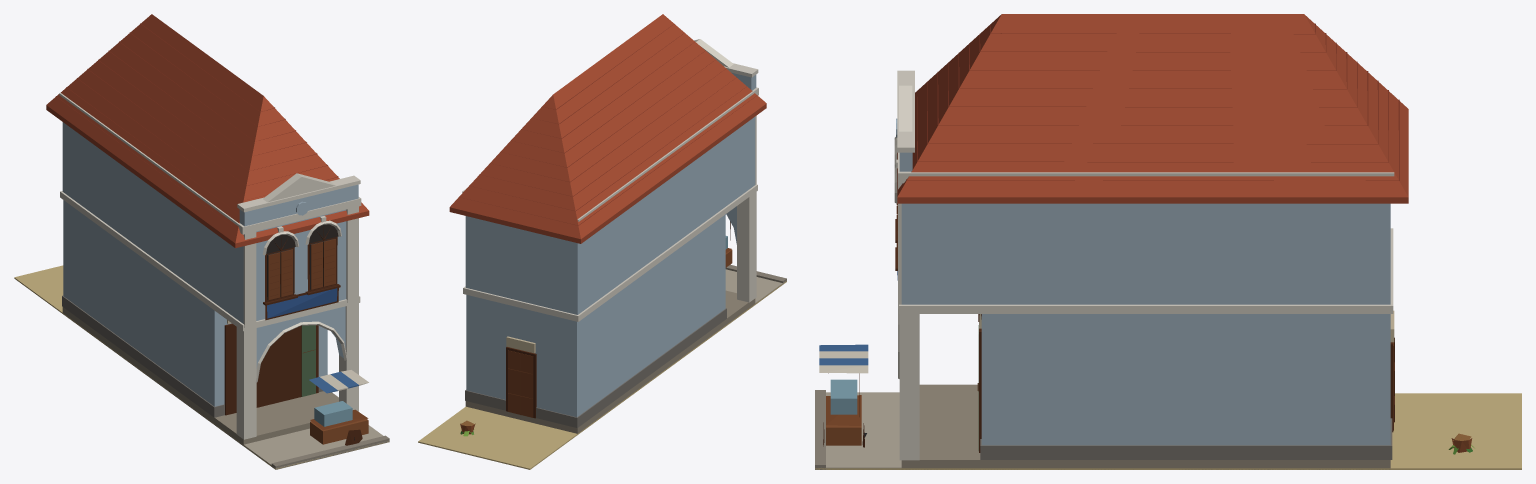
The model's file is bay1_mid.glb.
3 views of the same model, side by side, from view 1: azimuth 30°, elevation 25°; view 2: azimuth 150°, elevation 25°; view 3: azimuth 270°, elevation 25° (orthographic). The views are drawn at different scales.
Visible parts, largest first — view 1: body, windows; view 2: body; view 3: body.
Boxes of the visible parts, x1,y1,x2,y2 form: body: (14,14,389,469); windows: (266,224,338,299); body: (418,14,786,469); body: (815,14,1521,469).
Bounding box in the file's own units: 4.7 × 10.67 × 15.9.
